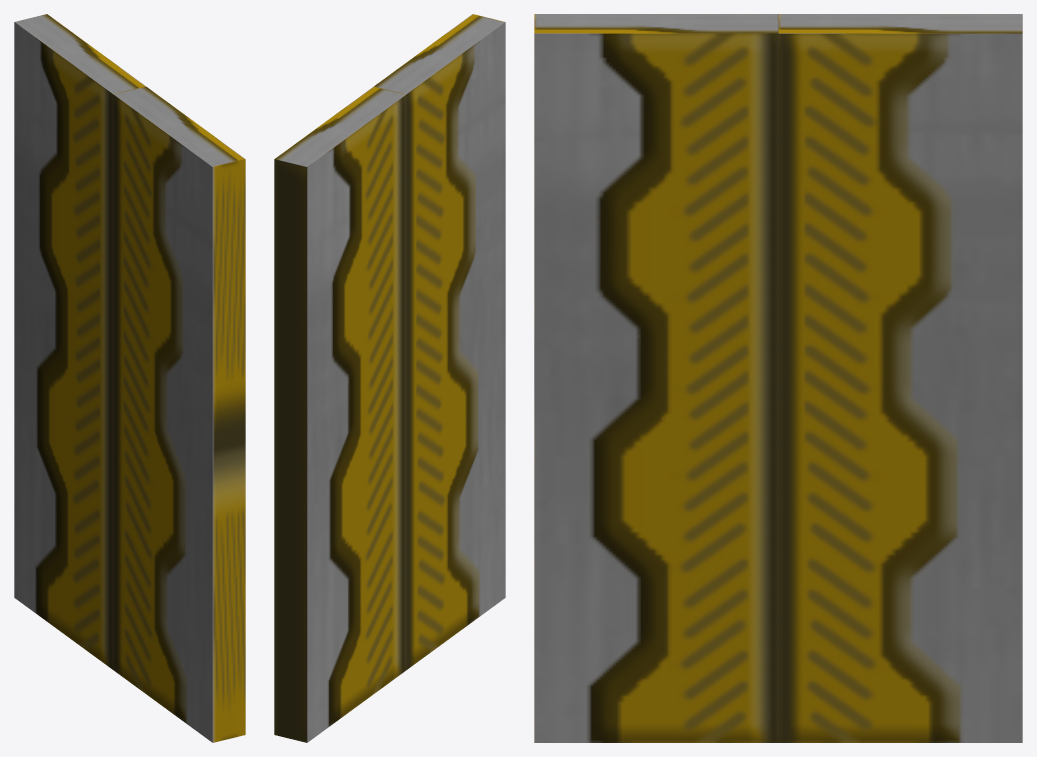
The model's file is door.glb.
3 views of the same model, side by side, from view 1: azimuth 30°, elevation 25°; view 2: azimuth 150°, elevation 25°; view 3: azimuth 270°, elevation 25° (orthographic). The views are drawn at different scales.
Parts seen in each view (by area): view 1: Door1_1.001, Door1_2.001; view 2: Door1_2.001, Door1_1.001; view 3: Door1_1.001, Door1_2.001.
Part boxes in pixels (x1=…): Door1_1.001: x1=113, y1=86, x2=245, y2=742; Door1_2.001: x1=14, y1=14, x2=145, y2=669; Door1_2.001: x1=274, y1=86, x2=406, y2=742; Door1_1.001: x1=374, y1=14, x2=505, y2=669; Door1_1.001: x1=534, y1=14, x2=778, y2=742; Door1_2.001: x1=778, y1=14, x2=1022, y2=742.
Size of the model in its own units: 0.1451 by 2.43 by 1.52.
1 material, 1 textured.
